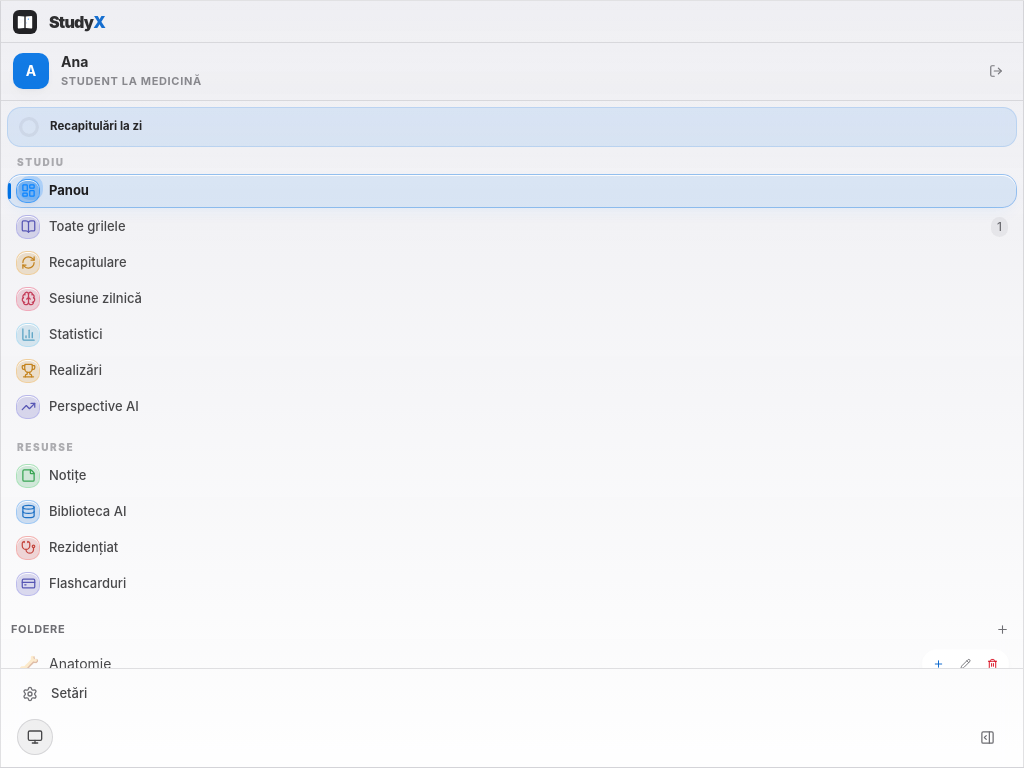
Test: Sidebar (characterization) › renames a folder inline
This screenshot has width=1024, height=768.
Step 1. Click the button named "Redenumește folderul Anatomie" → (966, 664), box [953,651,978,676]
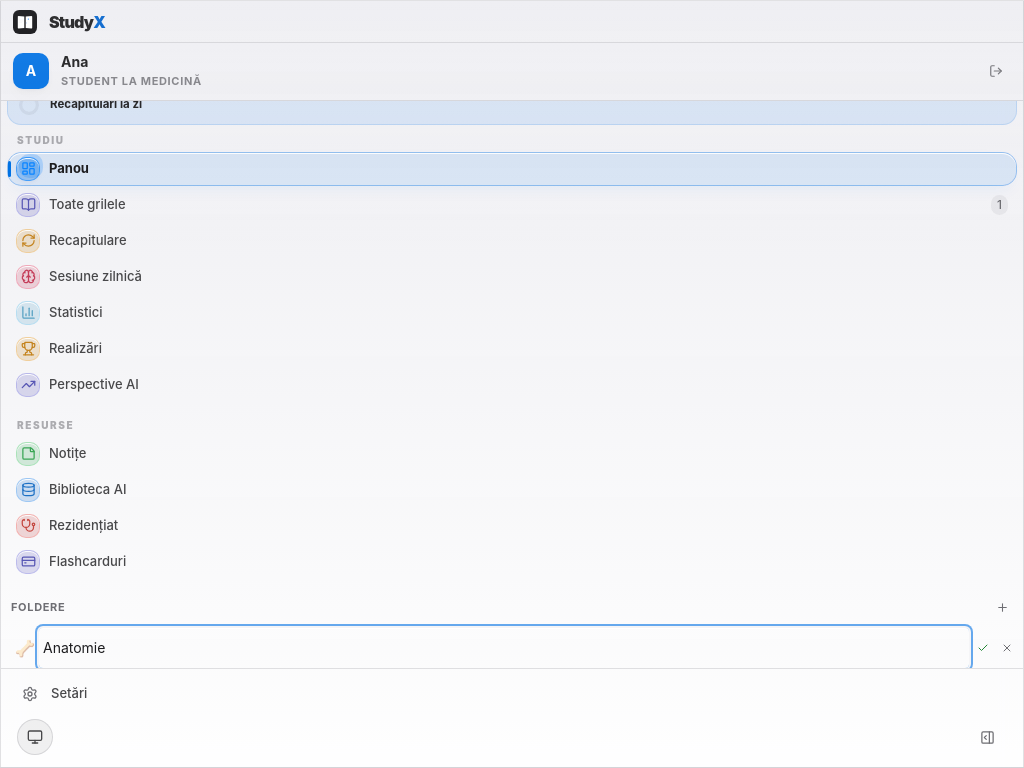
Step 2. Replace the text in the field showing "Anatomie" with "Fiziologie" → (504, 648), box [39,628,969,668]
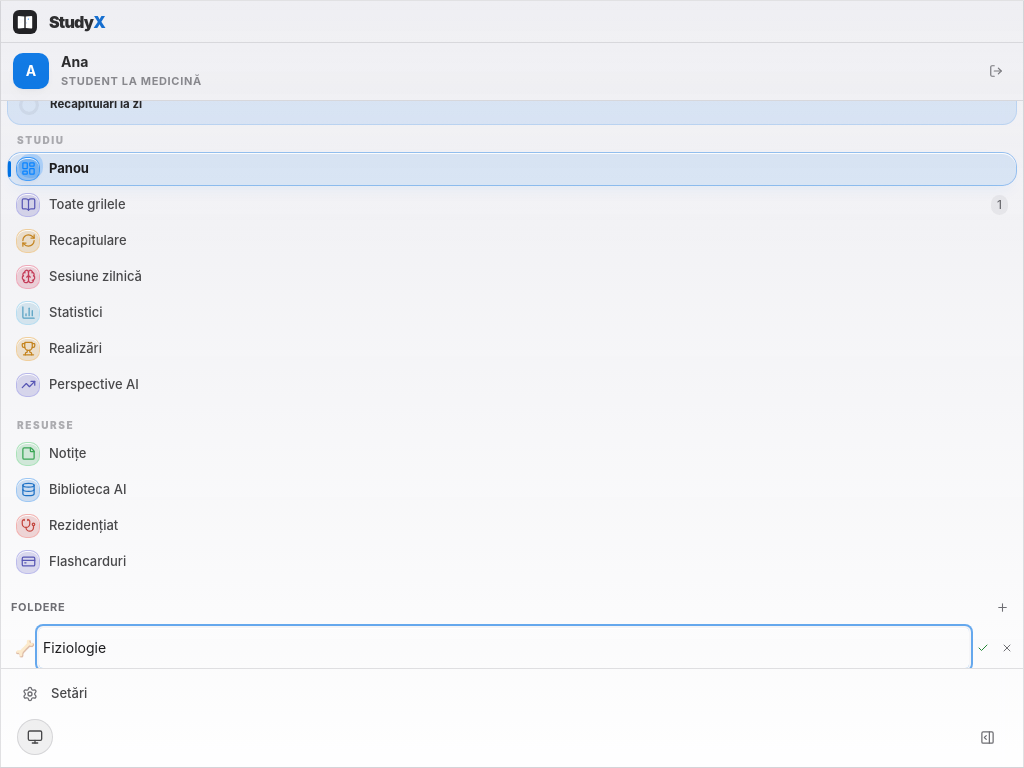
Step 3. Press Enter in the field showing "Anatomie", box [39,628,969,668]
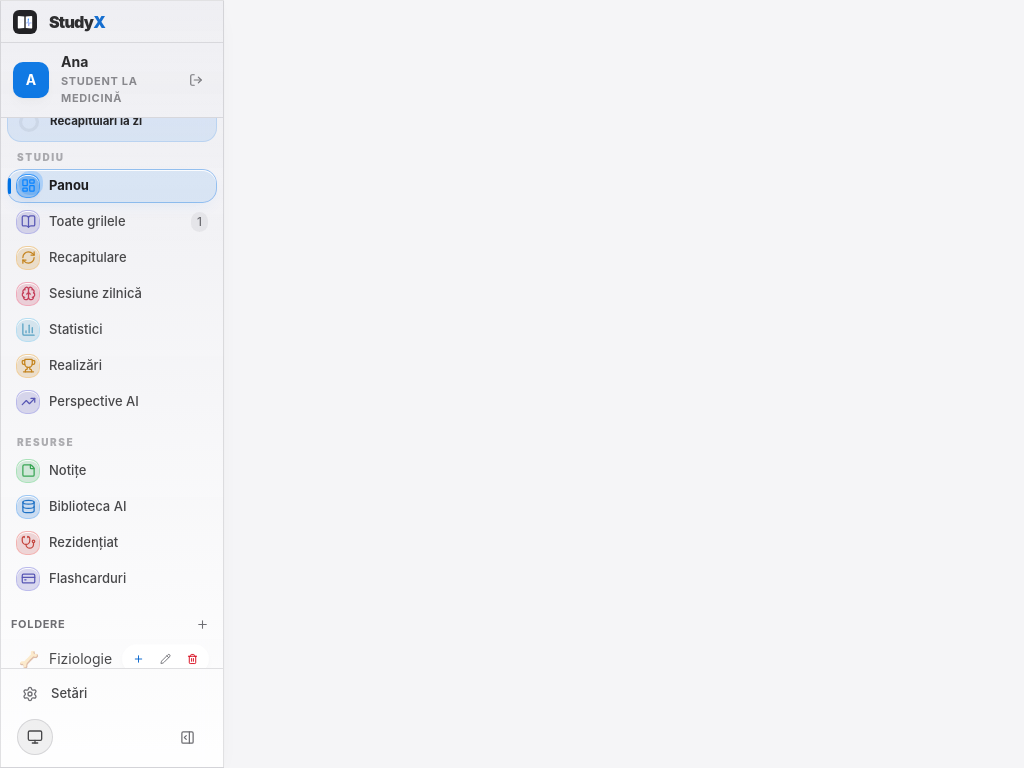
Check: the text "Fiziologie" is shown, box [49,650,112,667]
